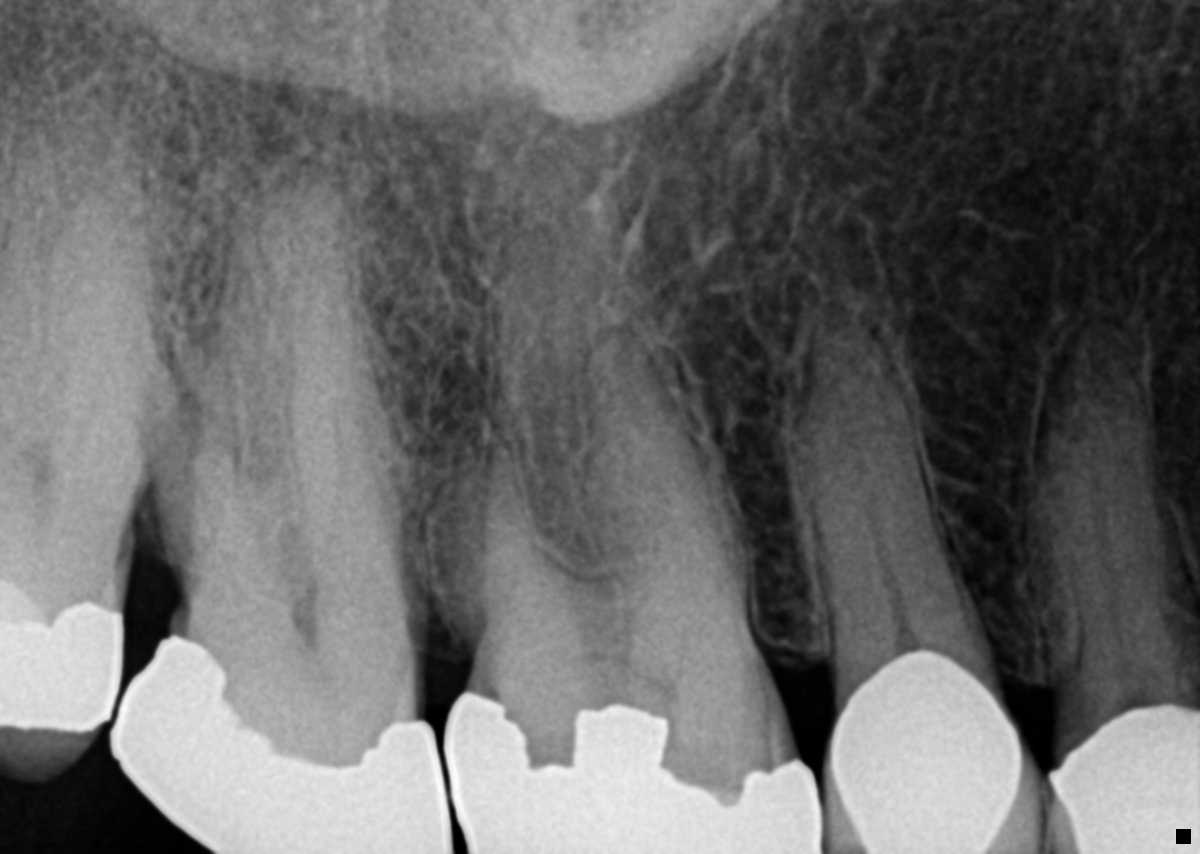Distal Root: (424, 420, 579, 650), (146, 319, 265, 592)
Main Canal: (833, 382, 922, 662), (1092, 413, 1133, 653)
Main Root: (0, 63, 169, 499), (786, 301, 977, 675), (1027, 322, 1200, 669)
Mesial Canal: (313, 411, 346, 572)
Mesial Root: (588, 328, 733, 578), (293, 260, 402, 556)
Palatal Root: (483, 166, 751, 623), (187, 154, 413, 596)
